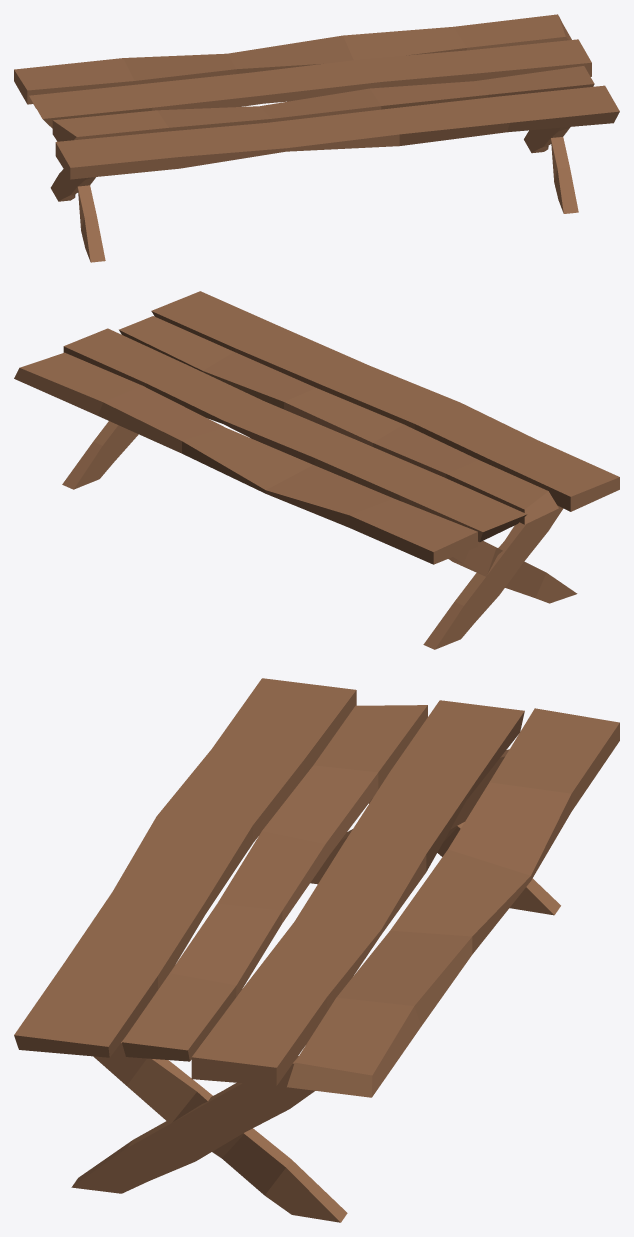
The model's file is table.glb.
The picture shows the model from 3 angles, top to bottom: view 1: azimuth 30°, elevation 25°; view 2: azimuth 150°, elevation 25°; view 3: azimuth 270°, elevation 25°; orthographic projection. The views are drawn at different scales.
Visible parts, largest first — view 1: table 1; view 2: table 1; view 3: table 1.
Part boxes in pixels (x1,y1,x2,y2): table 1: (14, 14, 619, 262); table 1: (14, 291, 619, 649); table 1: (14, 678, 619, 1222).
Bounding box in the file's own units: 1.21 × 0.2441 × 0.773.
